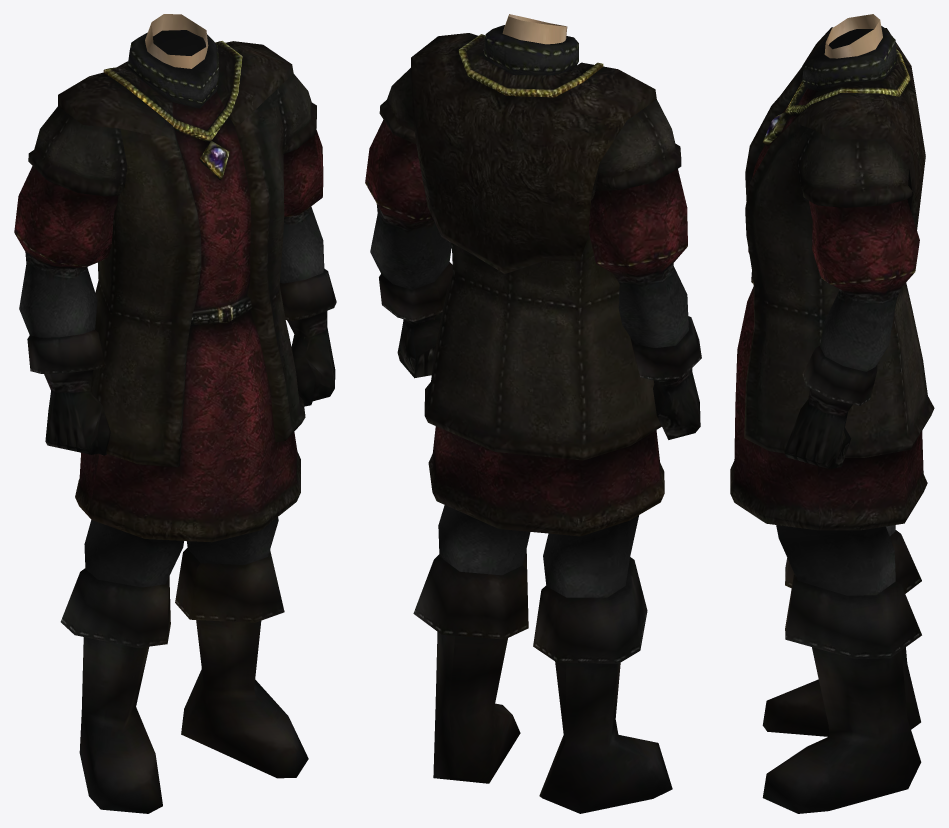
Rendered from KM_RICH_MERCHANT_NOHAT_02.glb.
The picture shows the model from 3 angles, left to right: view 1: azimuth 30°, elevation 25°; view 2: azimuth 150°, elevation 25°; view 3: azimuth 270°, elevation 25°; orthographic projection. The views are drawn at different scales.
Visible parts, largest first — view 1: KM_RICH_MERCHANT_NOHAT_02; view 2: KM_RICH_MERCHANT_NOHAT_02; view 3: KM_RICH_MERCHANT_NOHAT_02.
Part boxes in pixels (box(x1,y1,x2,y2)): KM_RICH_MERCHANT_NOHAT_02: box(14, 14, 336, 813); KM_RICH_MERCHANT_NOHAT_02: box(365, 14, 701, 813); KM_RICH_MERCHANT_NOHAT_02: box(730, 14, 934, 813).
Bounding box in the file's own units: 0.7073 × 1.7 × 0.4225.
Materials: 2 (2 with a texture image).
